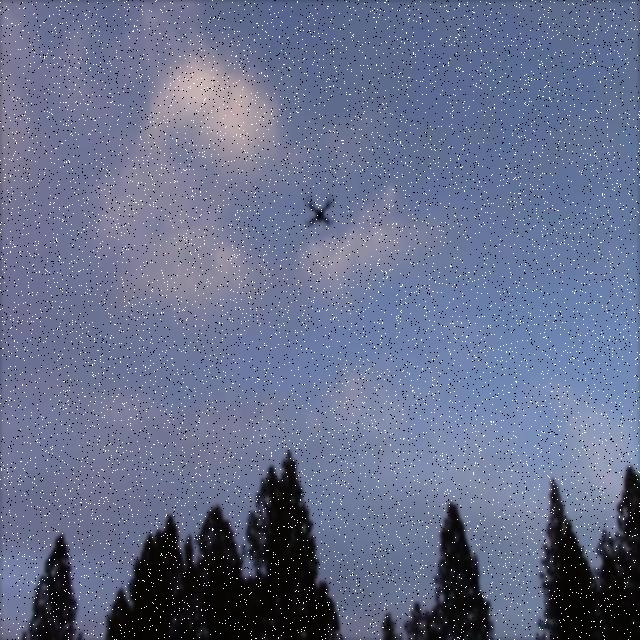UAV: (304, 192, 336, 228)
